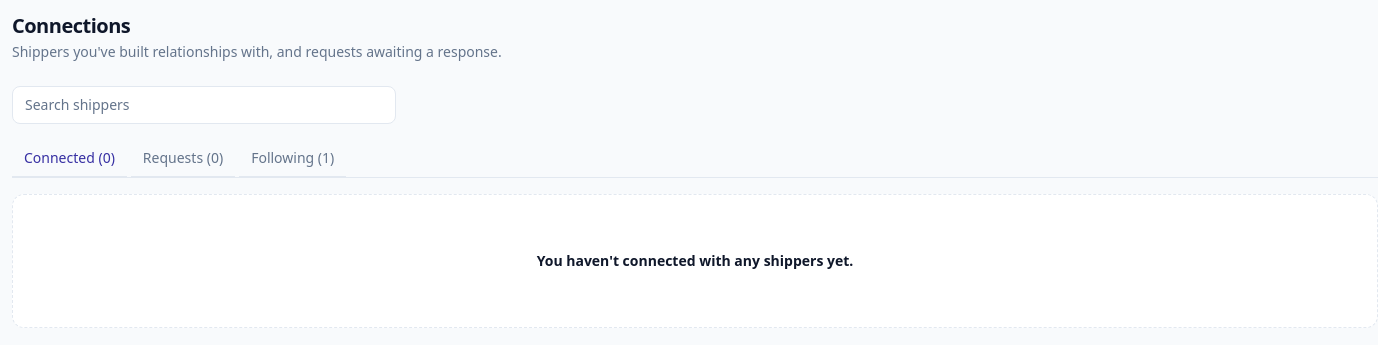
Test: NetworkWorkspace › renders a carrier's Following list, private to the carrier
Click the tab "Following (1)" at (293, 159), box [239,140,346,178]
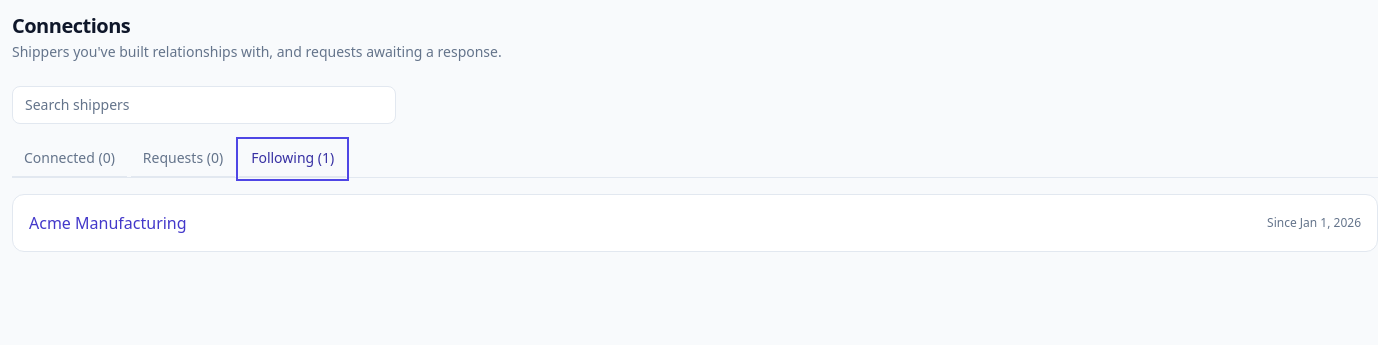
Expected: the link "Acme Manufacturing" is shown, [29,211,187,235]
